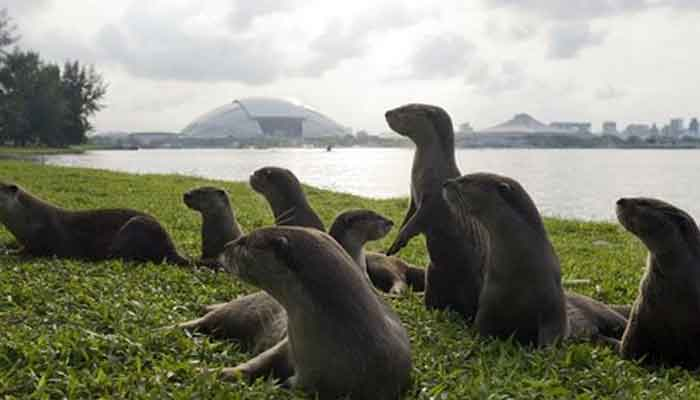otter: (211, 217, 430, 399), (442, 167, 579, 351), (381, 95, 488, 317)
